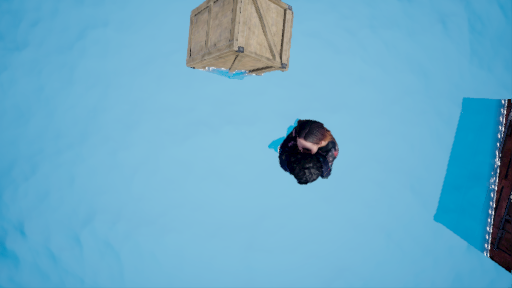person: (273, 116, 350, 193)
